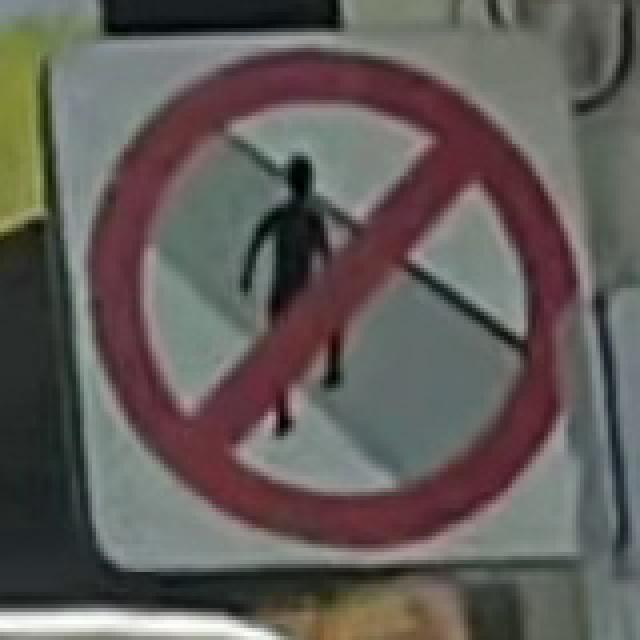nojaywalking_sign: (48, 28, 596, 568)
